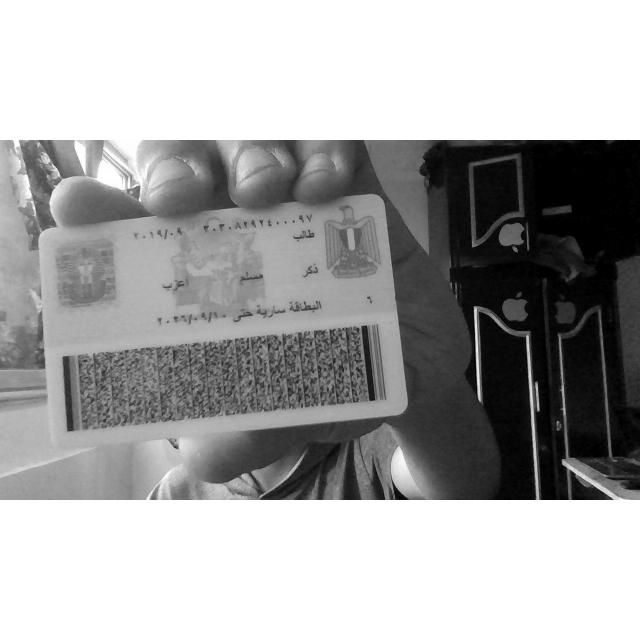id_card: (40, 194, 407, 448)
